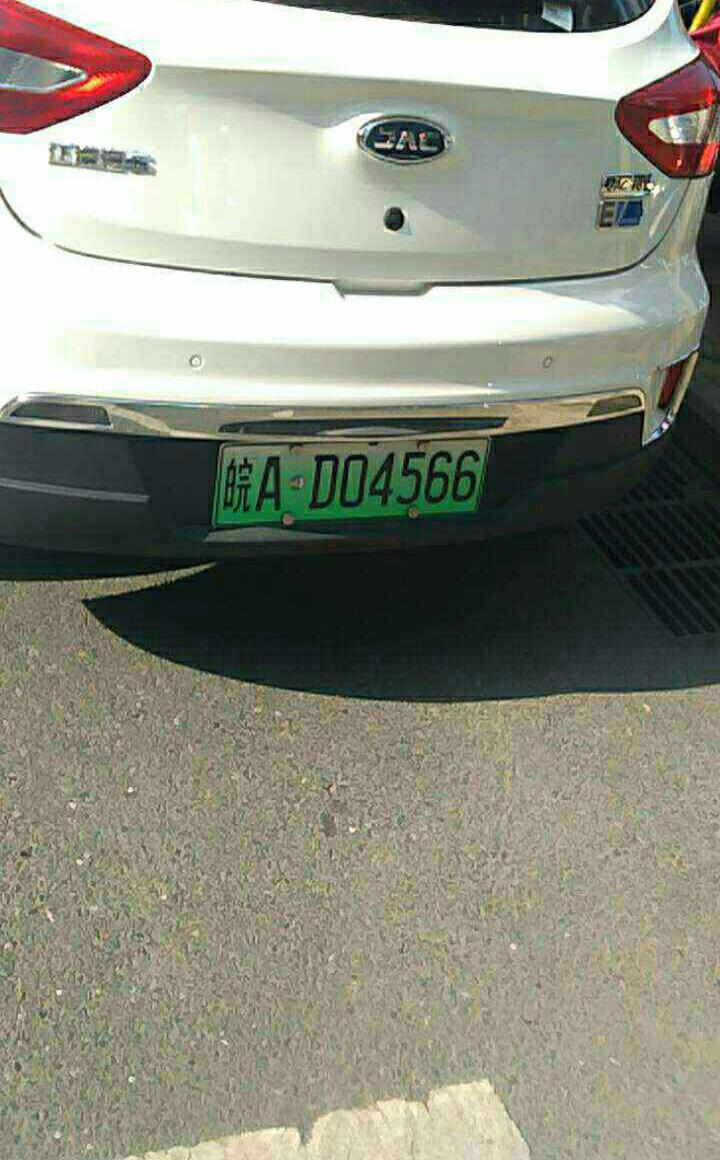car: (209, 436, 495, 522)
